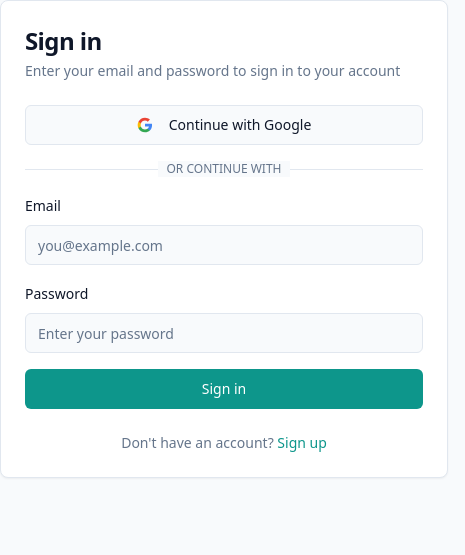
Test: SignInForm › should display error on failed sign in
Type "test@example.com" into the field labelled "Email" at (224, 245), box x1=25 y1=225 x2=423 y2=265
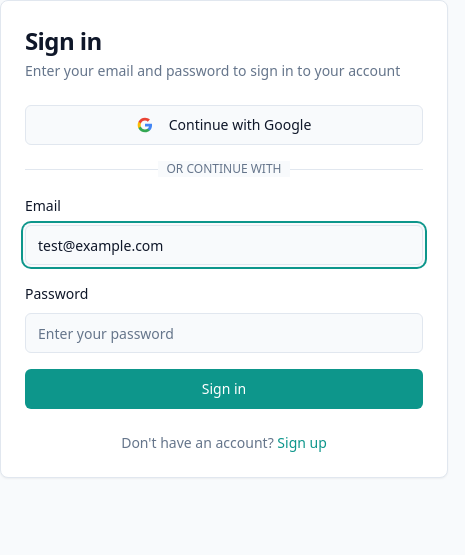
Type "wrong" into the password field labelled "Password" at (224, 333), box x1=25 y1=313 x2=423 y2=353
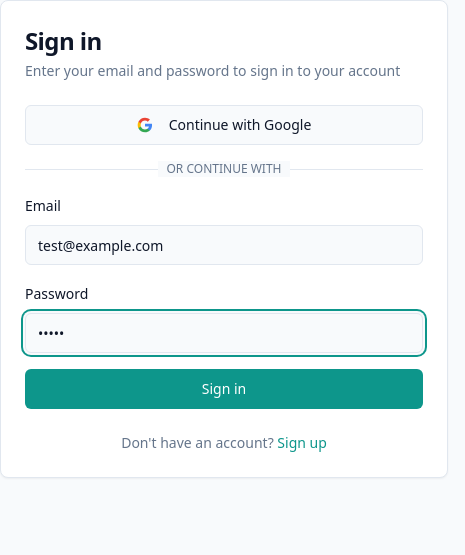
Click the button "Sign in" at (224, 389), box x1=25 y1=369 x2=423 y2=409
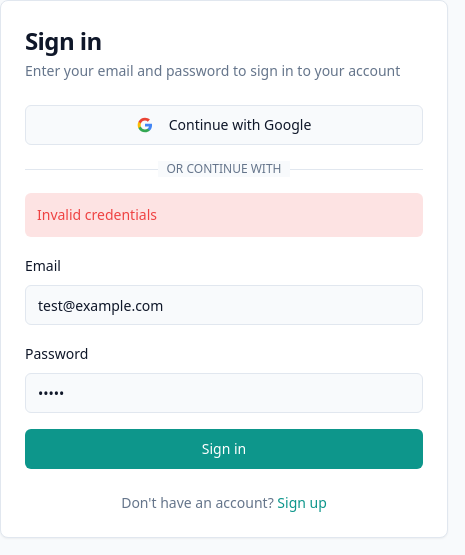
Expected: the text "Invalid credentials" is shown, x1=25 y1=193 x2=423 y2=237
